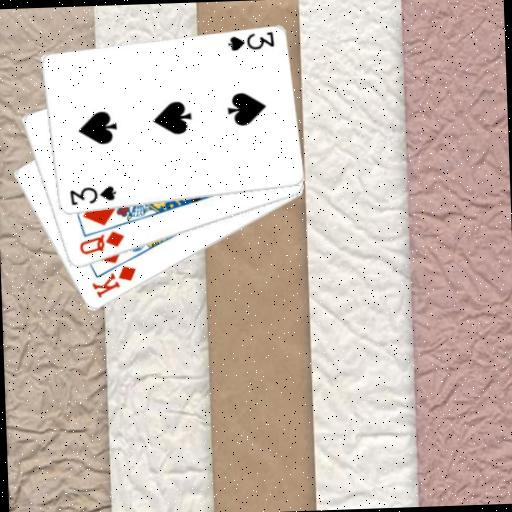3S: (66, 182, 117, 207), (224, 28, 275, 53)
KD: (87, 263, 139, 300)
QD: (75, 228, 126, 257)
